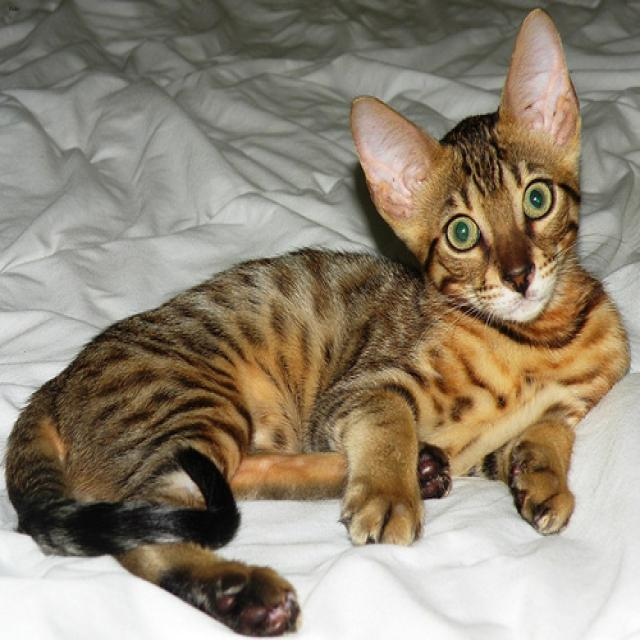Bengal: (346, 88, 593, 319)
